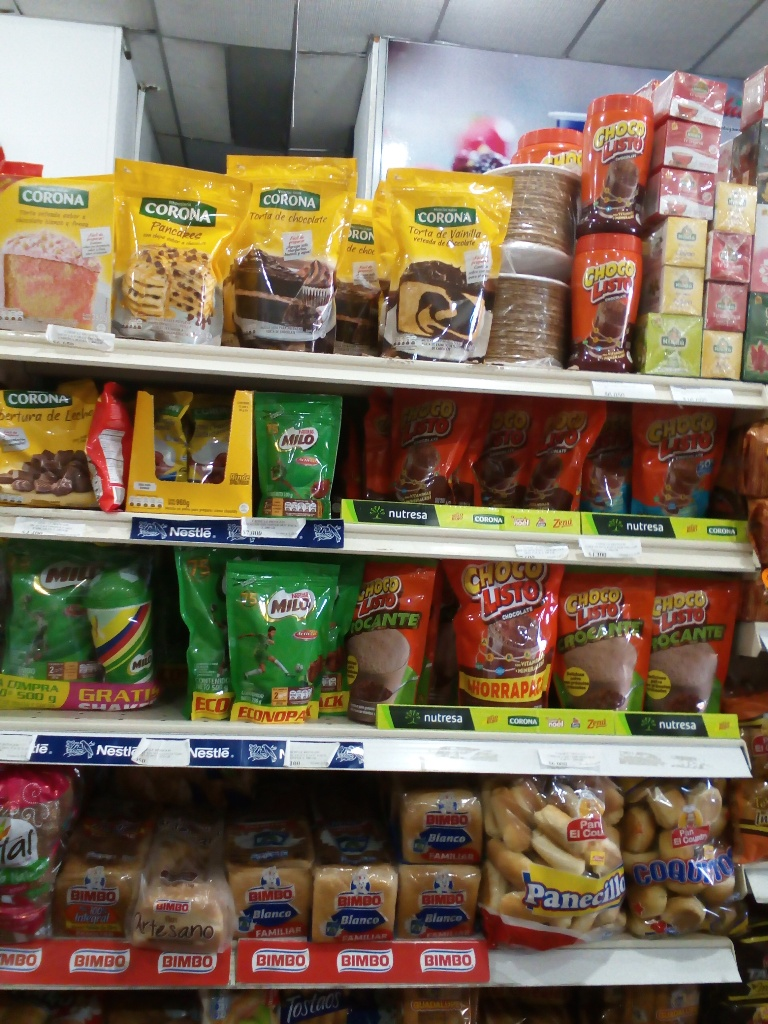COL0170102DYP25000: (646, 572, 737, 712)
COL0170103DYP10000: (368, 392, 481, 502)
COL0170103DYP40000: (434, 560, 559, 705)
COL0170103TRR30000: (579, 228, 645, 374)
COL0170104DYP20000: (624, 403, 719, 513)
COL0170203DYP10000: (263, 392, 338, 517)
COL0170203DYP25000: (236, 562, 351, 722)
COL0170203DYP50000: (173, 549, 234, 722)
